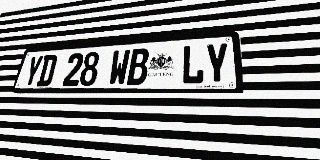2: (62, 52, 85, 86)
8: (78, 51, 101, 86)
B: (126, 48, 150, 85)
D: (36, 54, 58, 86)
L: (181, 44, 204, 84)
W: (108, 49, 131, 85)
Y: (205, 42, 229, 84), (22, 55, 44, 87)
